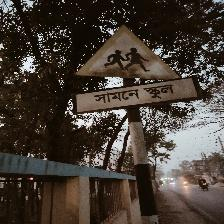School-in-front: (74, 24, 198, 121)
